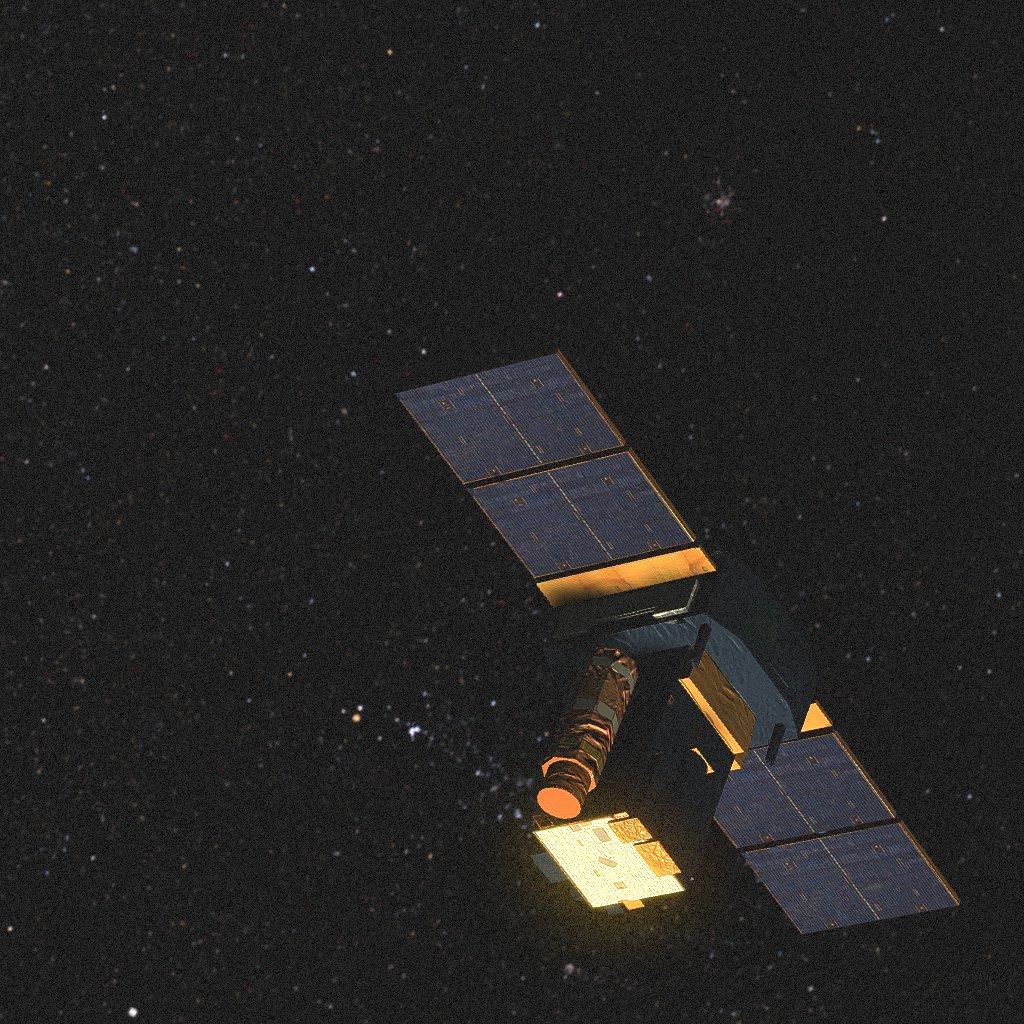soho: (395, 349, 961, 934)
